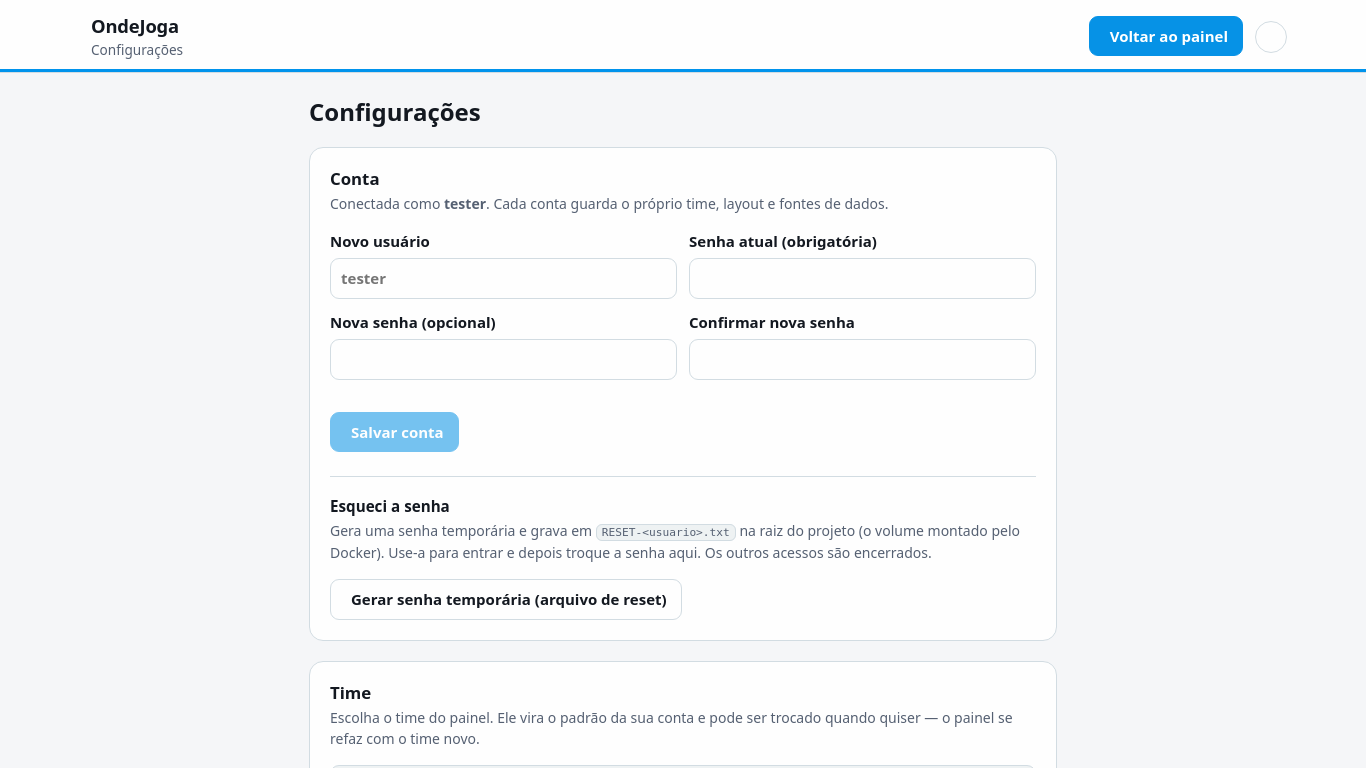
Scenario: tela de Configurações › cabeçalho usa o mesmo menu de conta do painel
Click the button named "Conta de tester" at (1271, 36), box left=1255, top=20, right=1287, bottom=52
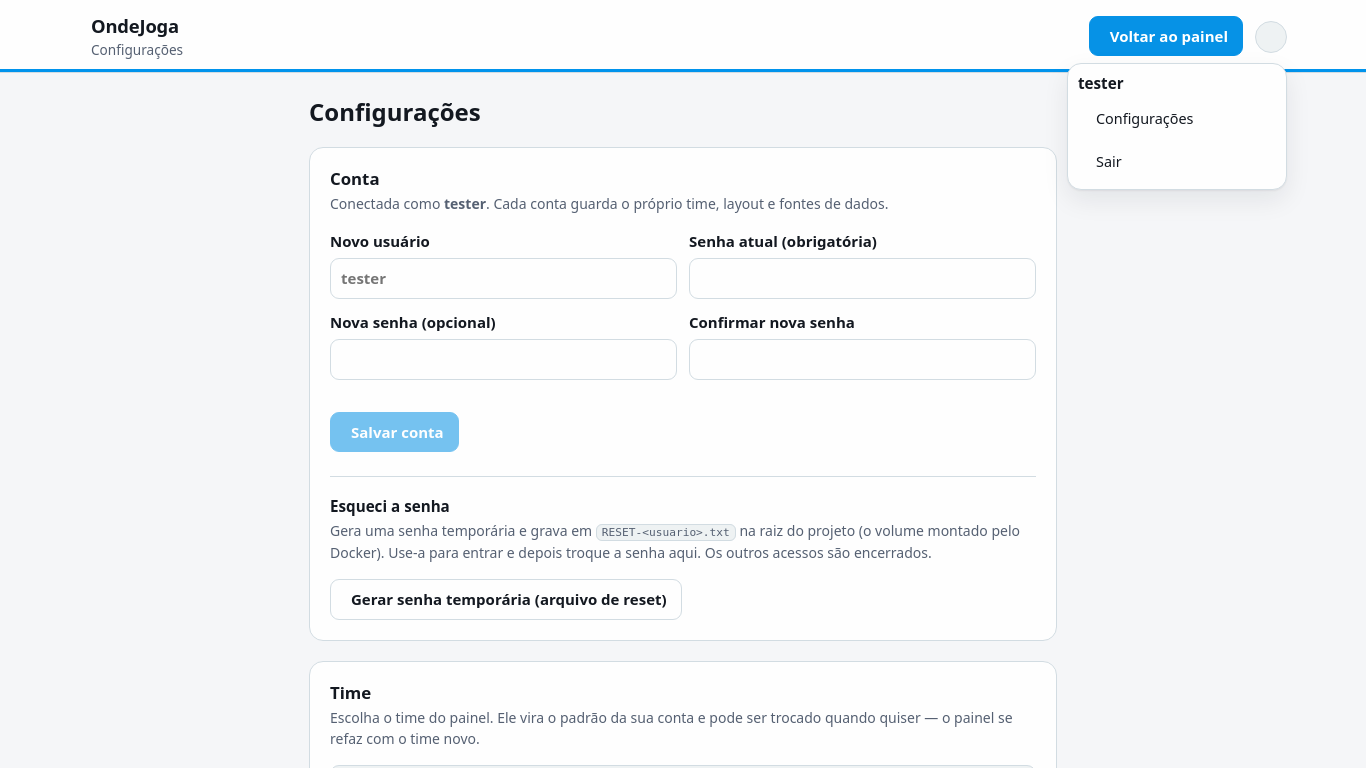
Expected: the menu item "Configurações" is shown, left=1078, top=100, right=1276, bottom=136
Expected: the menu item "Sair" is shown, left=1078, top=144, right=1276, bottom=178
